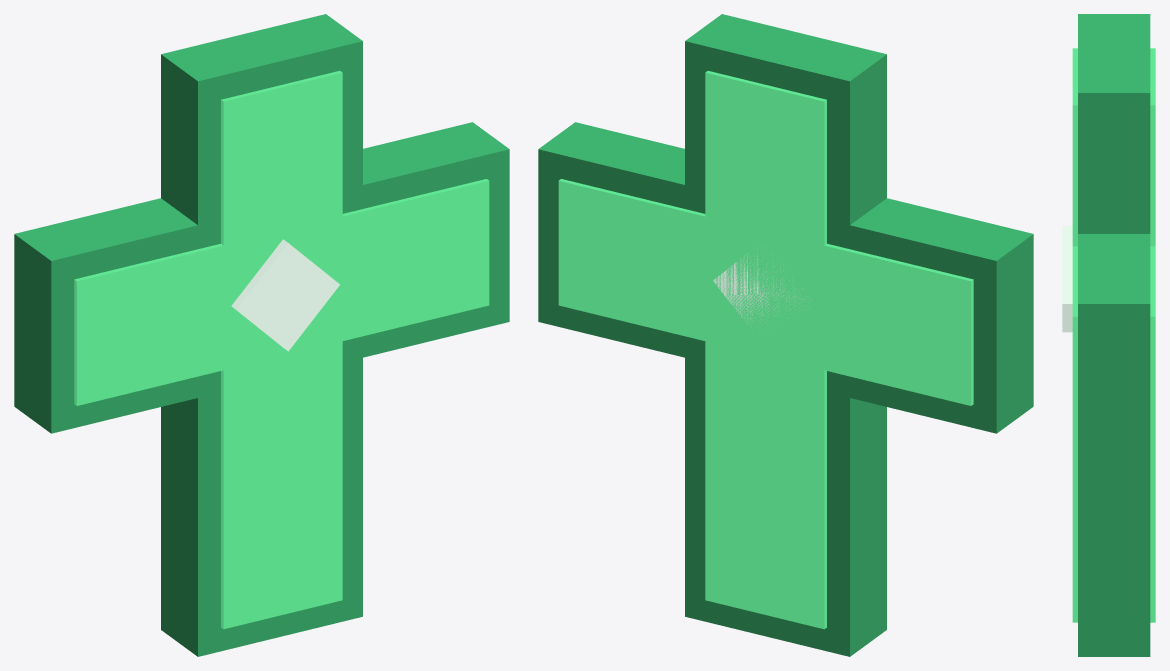
Rendered from dk_emb_2.glb.
The picture shows the model from 3 angles, left to right: view 1: azimuth 30°, elevation 25°; view 2: azimuth 150°, elevation 25°; view 3: azimuth 270°, elevation 25°; orthographic projection. The views are drawn at different scales.
Visible parts, largest first — view 1: dk_emb_2; view 2: dk_emb_2; view 3: dk_emb_2.
Boxes of the visible parts, left/top/right/bottom form: dk_emb_2: left=14, top=14, right=509, bottom=656; dk_emb_2: left=538, top=14, right=1033, bottom=656; dk_emb_2: left=1062, top=14, right=1155, bottom=656.
Bounding box in the file's own units: 1 × 1.2 × 0.18.
2 materials, 2 textured.
